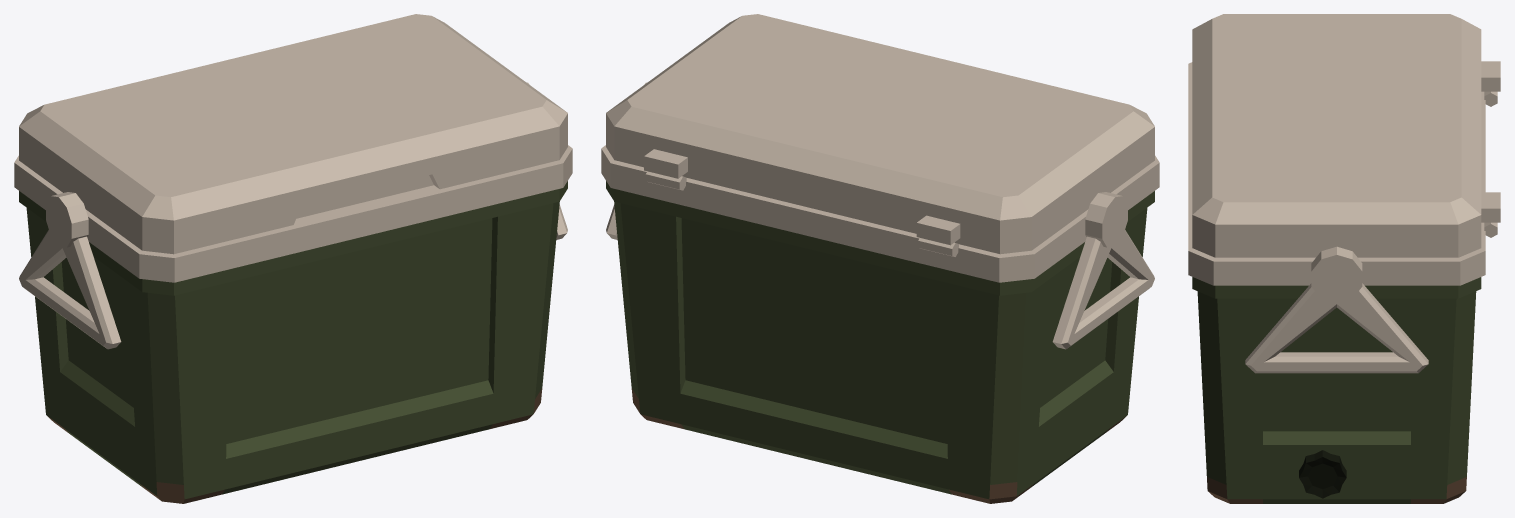
Rendered from camp-cooler-8ba941.glb.
3 views of the same model, side by side, from view 1: azimuth 30°, elevation 25°; view 2: azimuth 150°, elevation 25°; view 3: azimuth 270°, elevation 25° (orthographic).
Parts seen in each view (by area): view 1: cooler-body, lid-shell, handle-l-loop; view 2: cooler-body, lid-shell, handle-l-loop; view 3: lid-shell, cooler-body, handle-r-loop.
Part boxes in pixels (x1,y1,x2,y2): cooler-body: (14, 145, 572, 503); lid-shell: (19, 14, 567, 254); handle-l-loop: (19, 192, 121, 349); cooler-body: (601, 145, 1159, 503); lid-shell: (606, 14, 1154, 254); handle-l-loop: (1052, 192, 1154, 349); lid-shell: (1192, 14, 1500, 257); cooler-body: (1188, 62, 1497, 503); handle-r-loop: (1245, 246, 1428, 373).
Bounding box in the file's own units: 0.758 × 0.48 × 0.4435.
